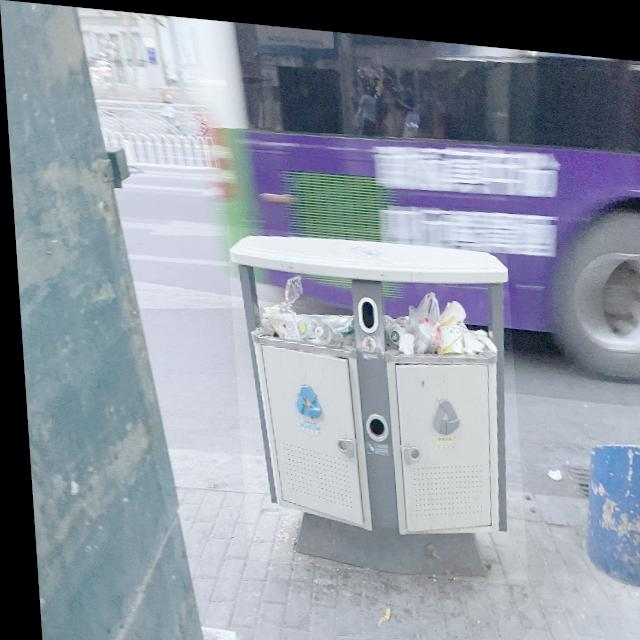overflow: (224, 221, 521, 576)
